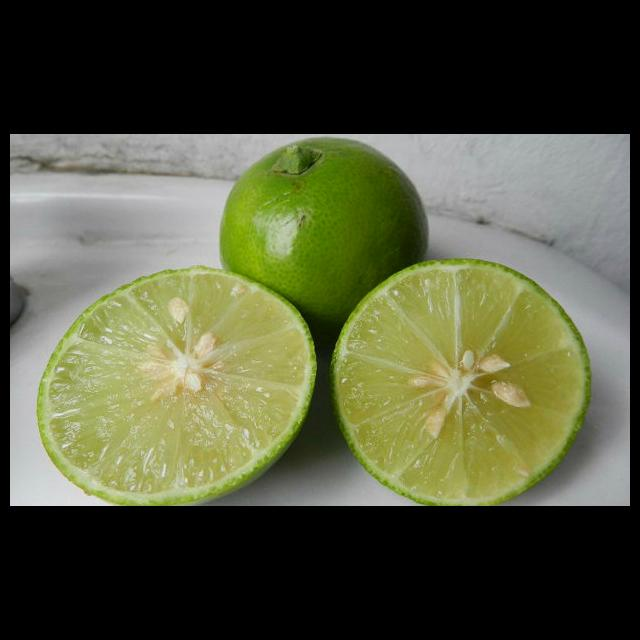lime: (214, 134, 434, 338)
